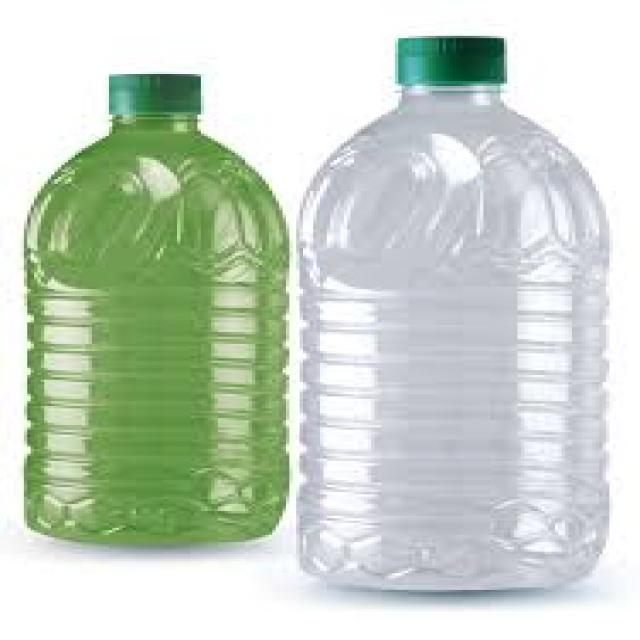Plastico: (297, 38, 608, 580), (30, 78, 290, 530)
